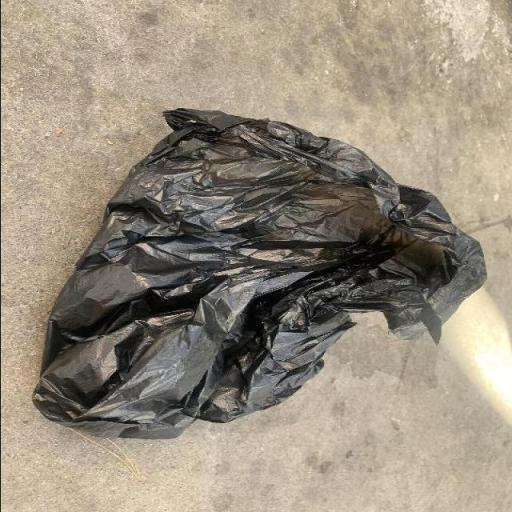plastic-bag: (30, 104, 488, 438)
